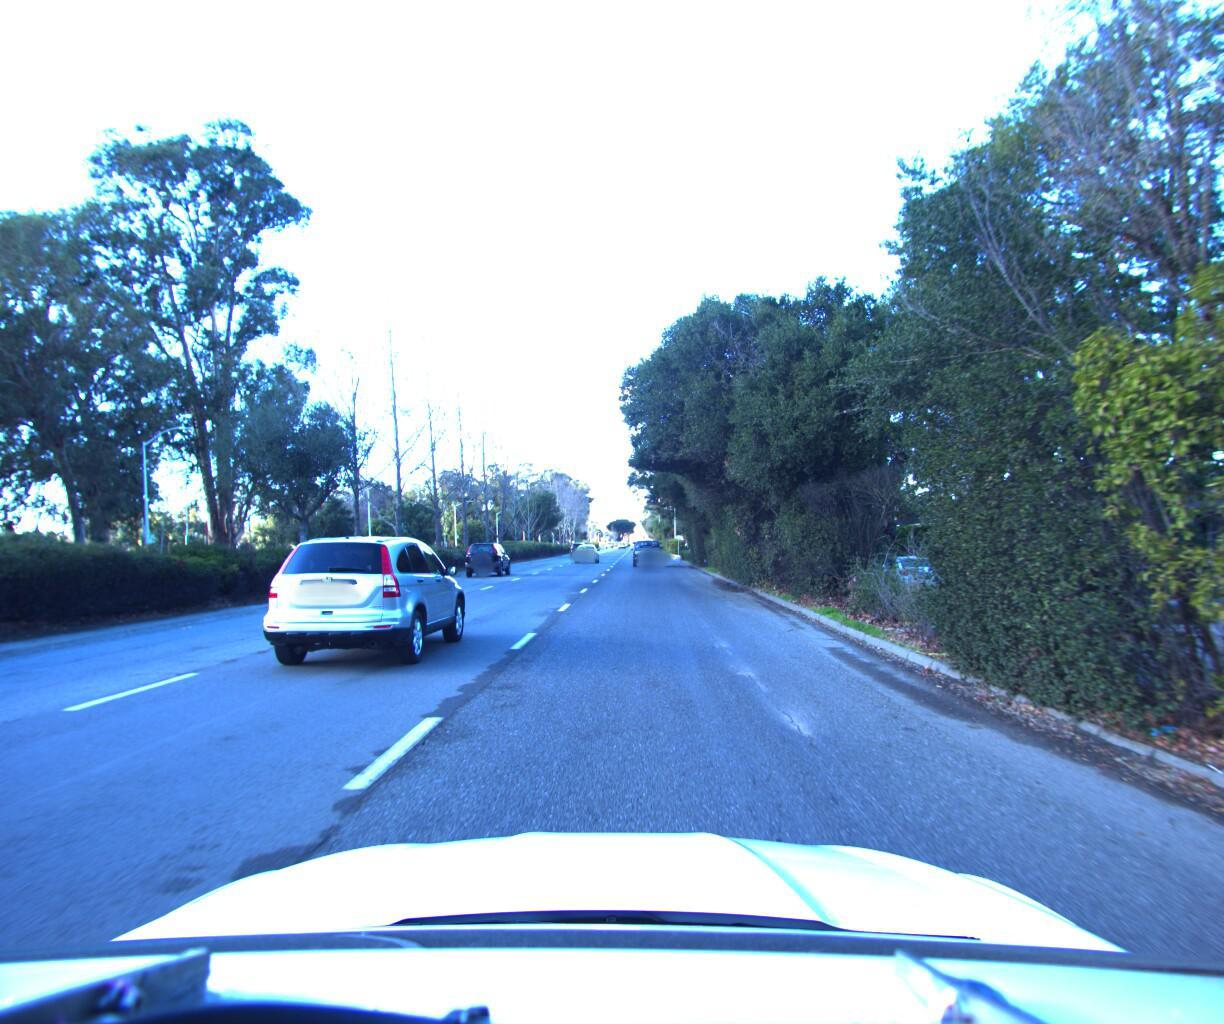car: (248, 519, 478, 674), (458, 531, 514, 573), (627, 532, 665, 563), (572, 537, 600, 558)
